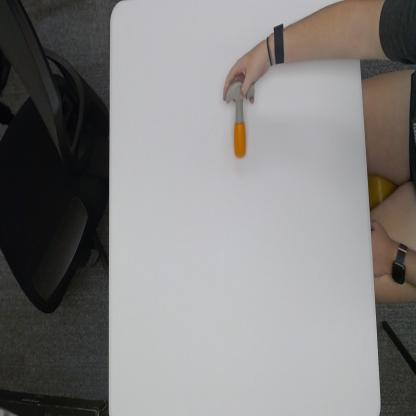Arm: (286, 0, 364, 63)
Hammer: (225, 79, 255, 160)
Hand: (223, 35, 274, 100)
